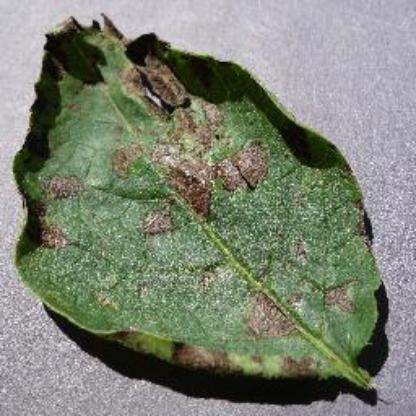Early-Blight: (16, 8, 394, 394)
